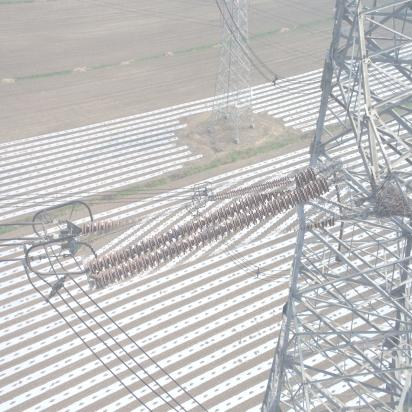insulator: (77, 177, 357, 274), (208, 176, 297, 199)
